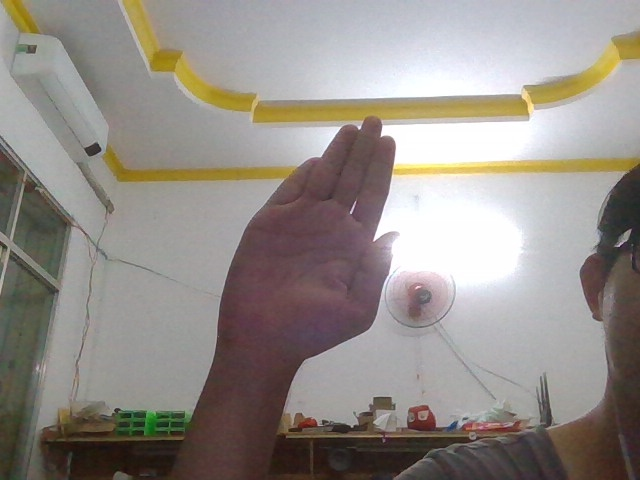stop: (211, 102, 411, 373)
